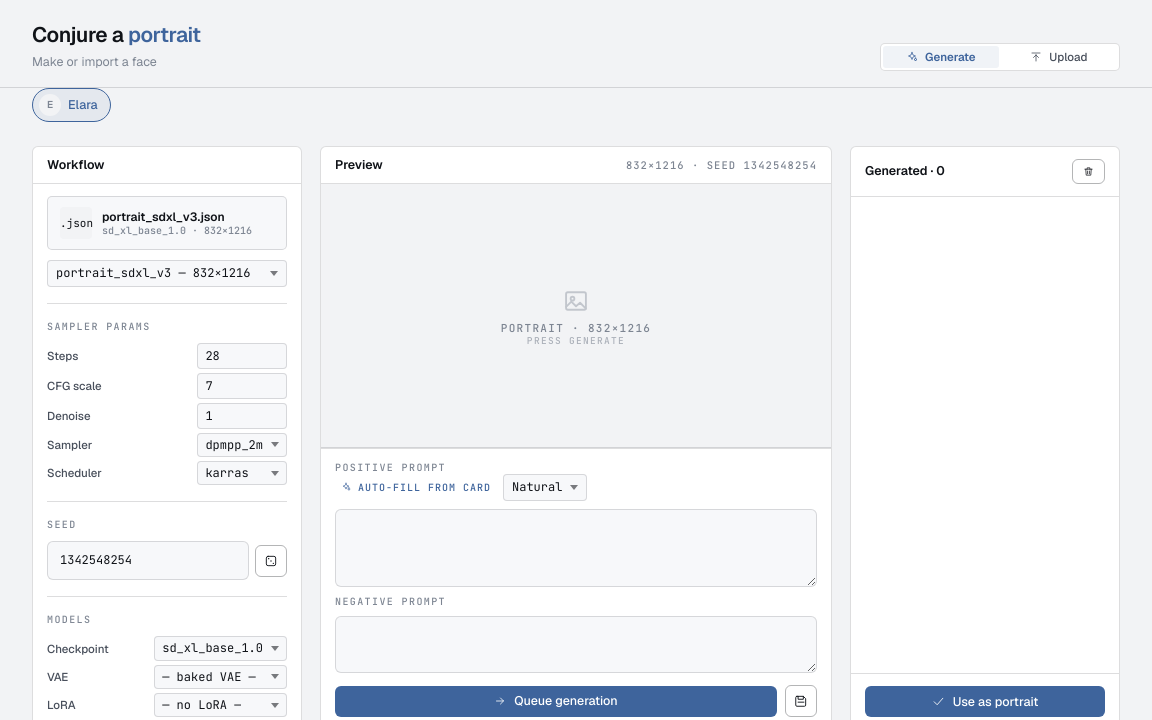
Test: PortraitScreen › offers the krea2 and zturbo built-in workflows
What coordinates should you click on to do the following:
click the dropdown named "Workflow"
I would click on:
 (167, 274)
Its box is [47,260,287,287].
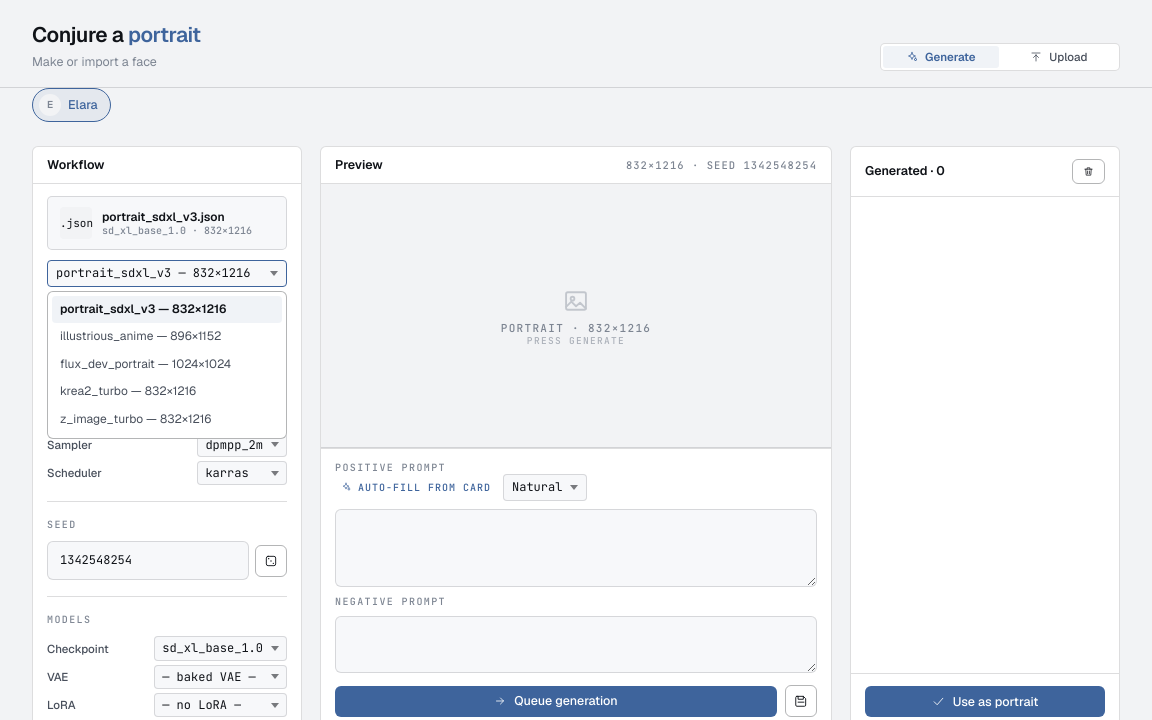
Now the option "krea2_turbo — 832×1216" is shown, box [60,383,196,399]
Now the option "z_image_turbo — 832×1216" is shown, box [60,411,212,427]
